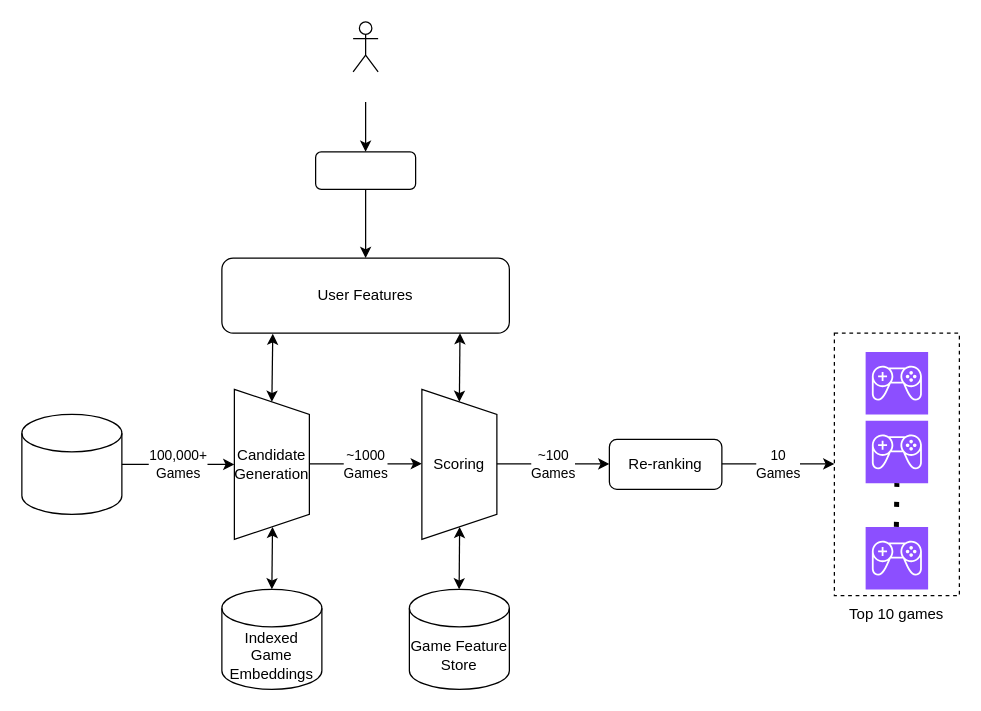
Some shapes in this 981 by 711 pixel diagram are drawn without their labels. The shapes that lost their labels are listed below. From the top down, each one's box as (x1, y1, x2, y2) in pixels, then its label:
(352, 21, 378, 72): Query User
(314, 151, 416, 189): Feature Preperation
(21, 413, 122, 514): Games
